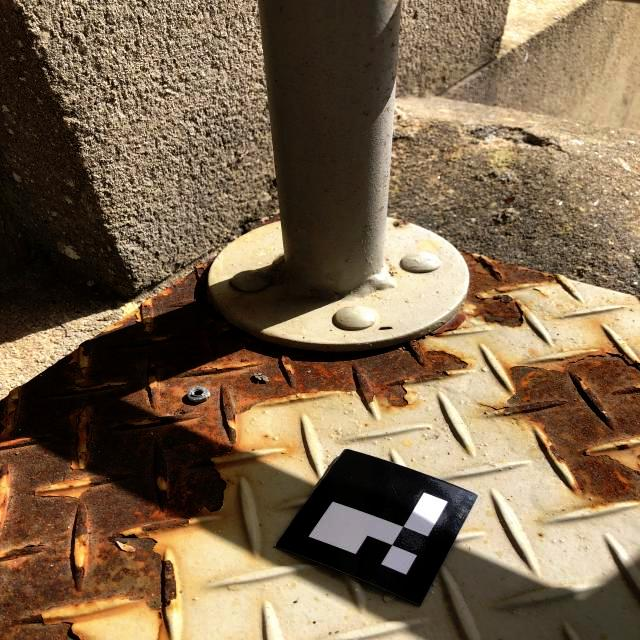Corrosion: (0, 255, 471, 640), (474, 332, 640, 511), (460, 250, 562, 328), (260, 213, 281, 226), (394, 219, 406, 227)
